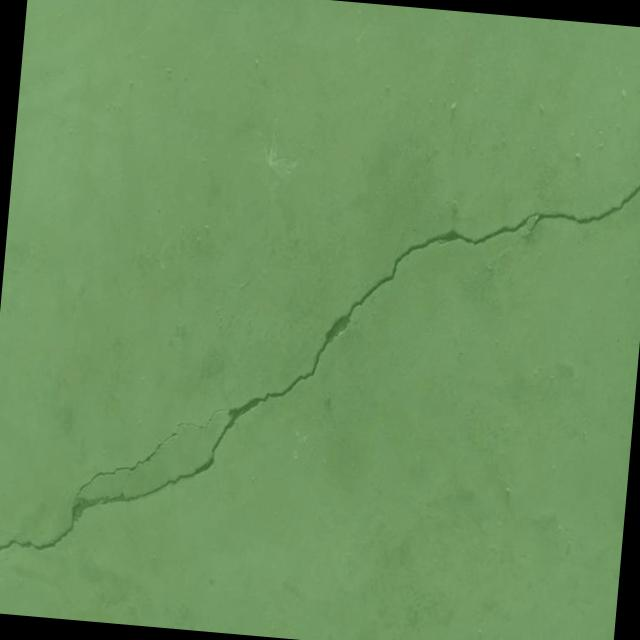crack: (0, 76, 640, 611)
